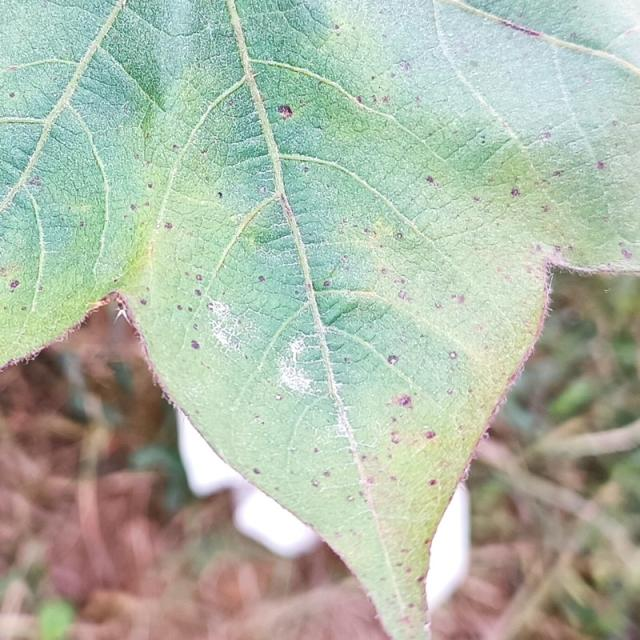Bacterial_Blight: (276, 334, 325, 395), (389, 384, 423, 417), (501, 19, 543, 38), (370, 92, 392, 106), (277, 105, 293, 119), (389, 430, 401, 443), (398, 290, 411, 302), (452, 293, 465, 304), (387, 354, 400, 365), (399, 60, 411, 71), (29, 176, 42, 186), (9, 279, 20, 290), (424, 430, 436, 440), (425, 175, 437, 185), (622, 249, 633, 259), (418, 572, 429, 582), (399, 615, 411, 624), (511, 188, 521, 197), (191, 340, 200, 350), (596, 161, 606, 170), (540, 131, 551, 139), (414, 96, 422, 107), (164, 221, 173, 230), (552, 170, 563, 177), (252, 467, 261, 475), (366, 477, 375, 485), (541, 205, 550, 213), (449, 351, 458, 359), (554, 245, 562, 254), (323, 280, 331, 288), (139, 298, 147, 306), (434, 301, 442, 309), (259, 186, 267, 194), (478, 137, 486, 145), (428, 479, 437, 486), (355, 95, 362, 104), (207, 302, 214, 311), (323, 470, 331, 477), (473, 196, 481, 203), (130, 203, 137, 211), (390, 416, 398, 423), (311, 480, 319, 487), (405, 566, 412, 574), (302, 165, 309, 173), (535, 244, 542, 252), (275, 393, 283, 400), (334, 531, 342, 538), (569, 32, 577, 39), (390, 475, 397, 482), (258, 275, 265, 282), (360, 455, 367, 462), (195, 289, 202, 296), (334, 24, 341, 31), (358, 490, 365, 497), (196, 274, 203, 281), (172, 144, 179, 151), (201, 149, 208, 156), (612, 120, 619, 127), (381, 268, 388, 275), (396, 233, 403, 240), (217, 191, 223, 199), (253, 413, 261, 419), (424, 539, 431, 545), (313, 447, 319, 454), (79, 221, 85, 228), (8, 92, 15, 98), (396, 561, 403, 567), (447, 388, 453, 395), (177, 304, 183, 311), (343, 357, 350, 363), (407, 603, 414, 609), (347, 495, 354, 501), (147, 183, 153, 189), (187, 306, 193, 312), (290, 447, 296, 453), (38, 285, 44, 291), (318, 124, 324, 130), (113, 276, 119, 282), (52, 92, 58, 98), (603, 217, 609, 222), (21, 306, 27, 311)
Cotton: (0, 0, 639, 639)
